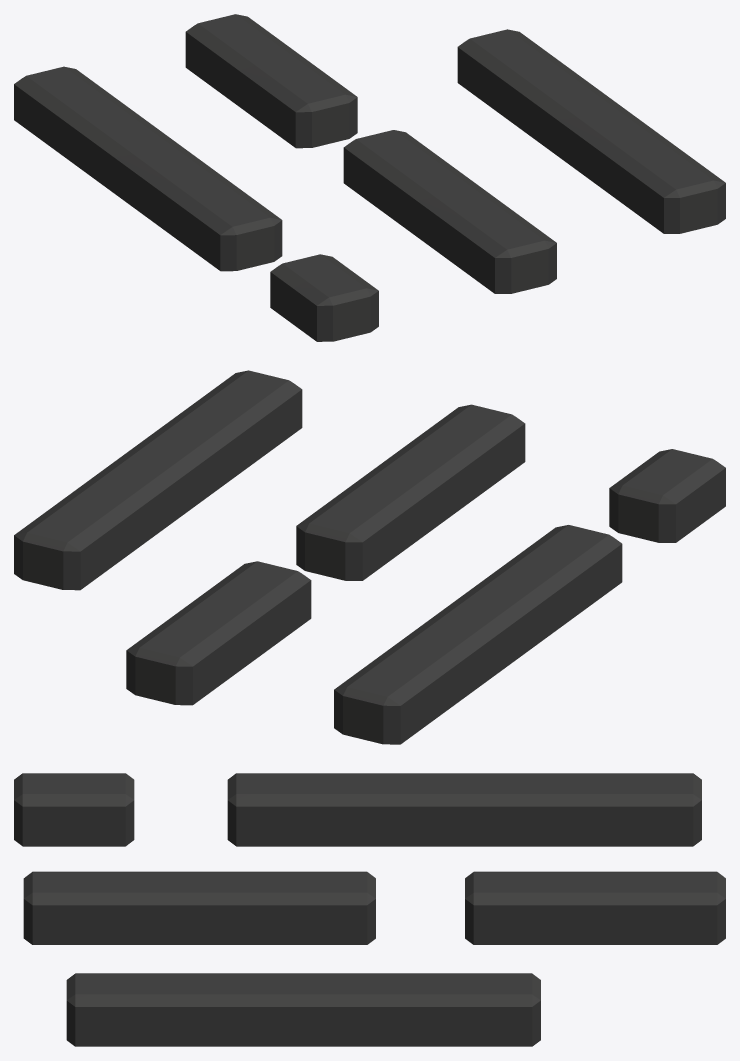
The model's file is Signs_1_1.glb.
3 views of the same model, one above another, from view 1: azimuth 30°, elevation 25°; view 2: azimuth 150°, elevation 25°; view 3: azimuth 270°, elevation 25° (orthographic). The views are drawn at different scales.
Parts seen in each view (by area): view 1: Signs_1_1; view 2: Signs_1_1; view 3: Signs_1_1.
Part boxes in pixels (left/top/right/bottom): Signs_1_1: left=14, top=14, right=725, bottom=341; Signs_1_1: left=14, top=370, right=725, bottom=744; Signs_1_1: left=14, top=773, right=725, bottom=1046.
Bounding box in the file's own units: 0.3627 × 0.0331 × 0.4668.
1 material, 1 textured.
